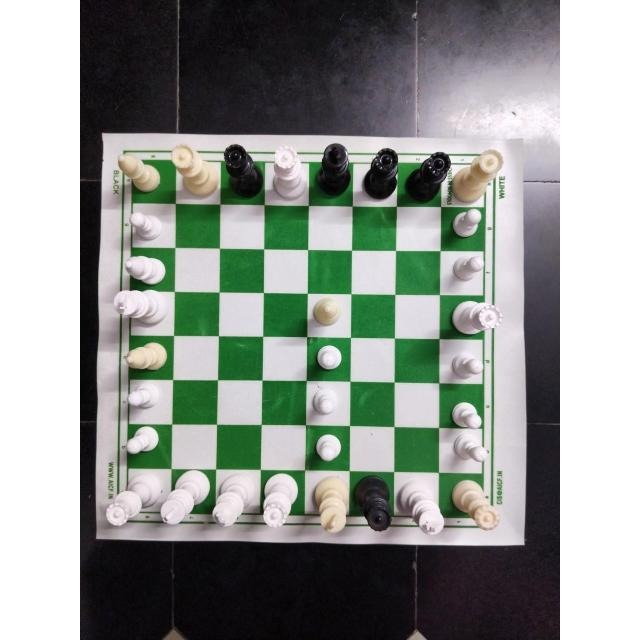black-king: (321, 141, 355, 196)
black-queen: (350, 472, 394, 540), (408, 143, 452, 204), (361, 145, 399, 205), (224, 141, 260, 203)
white-bishop: (114, 147, 160, 199), (120, 339, 168, 375), (122, 253, 170, 286), (308, 292, 343, 328)
white-king: (398, 477, 450, 540), (160, 471, 209, 528), (212, 470, 254, 531), (313, 474, 351, 535), (112, 292, 170, 328)
white-pawn: (444, 346, 486, 384), (449, 397, 490, 433), (130, 208, 168, 246), (445, 254, 485, 288), (454, 429, 491, 465), (127, 425, 163, 461), (309, 382, 347, 414), (313, 339, 347, 374), (311, 432, 348, 463), (453, 208, 486, 242), (129, 384, 160, 418)
white-queen: (455, 147, 509, 204), (447, 476, 501, 530), (271, 141, 315, 203), (168, 144, 219, 196), (106, 474, 158, 524), (260, 473, 301, 535), (450, 300, 502, 334)
